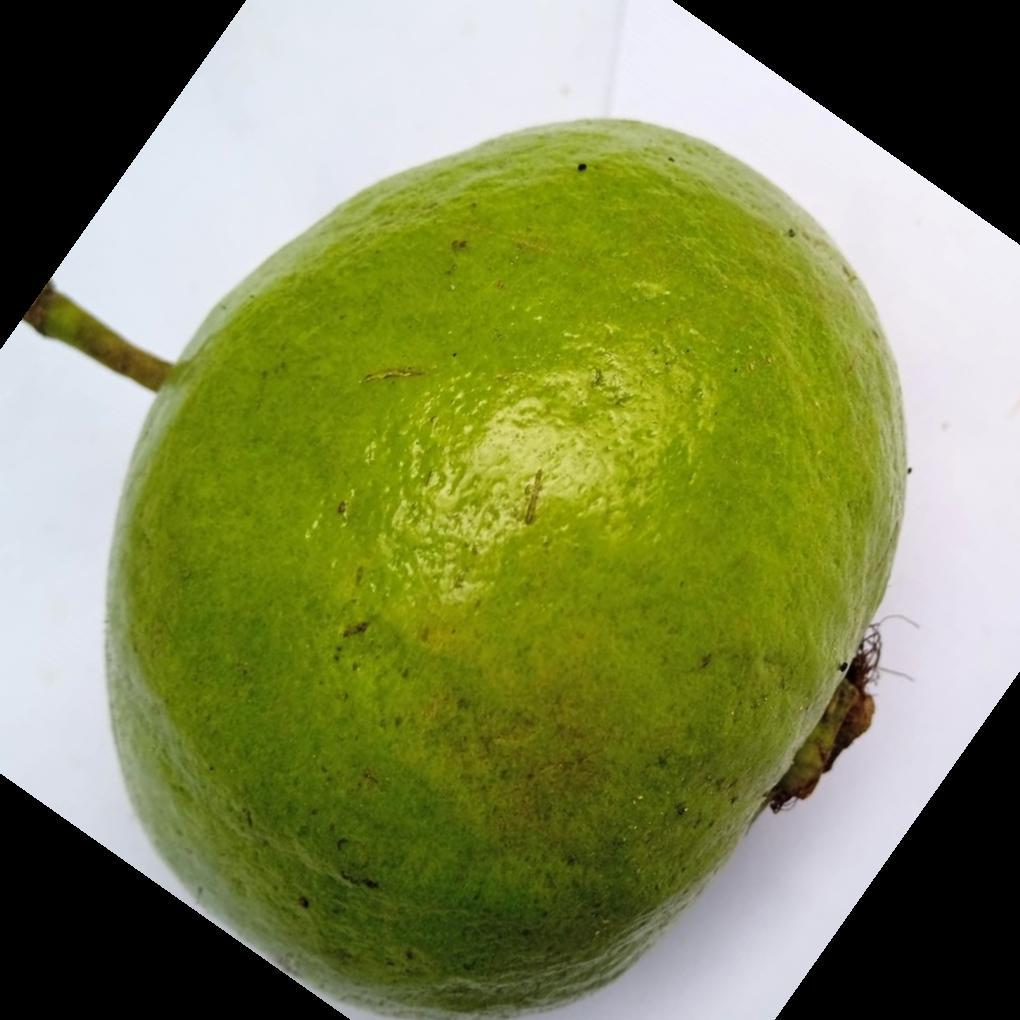FreshGuava: (99, 120, 911, 1020)
